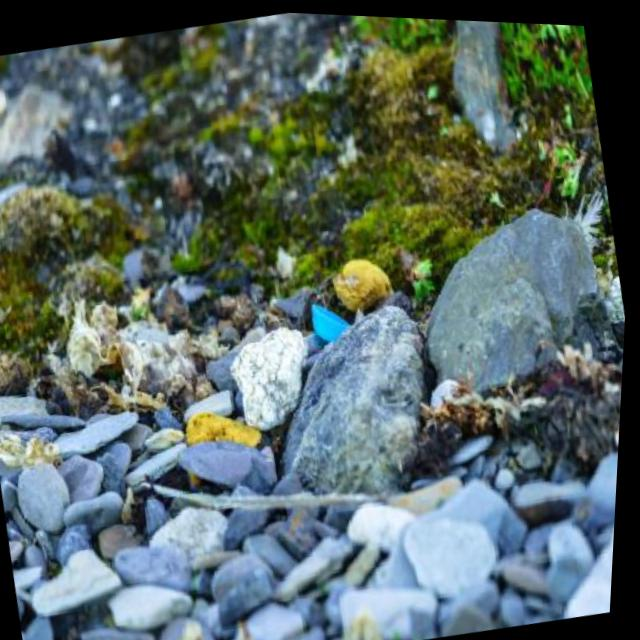plastic: (306, 296, 356, 349)
